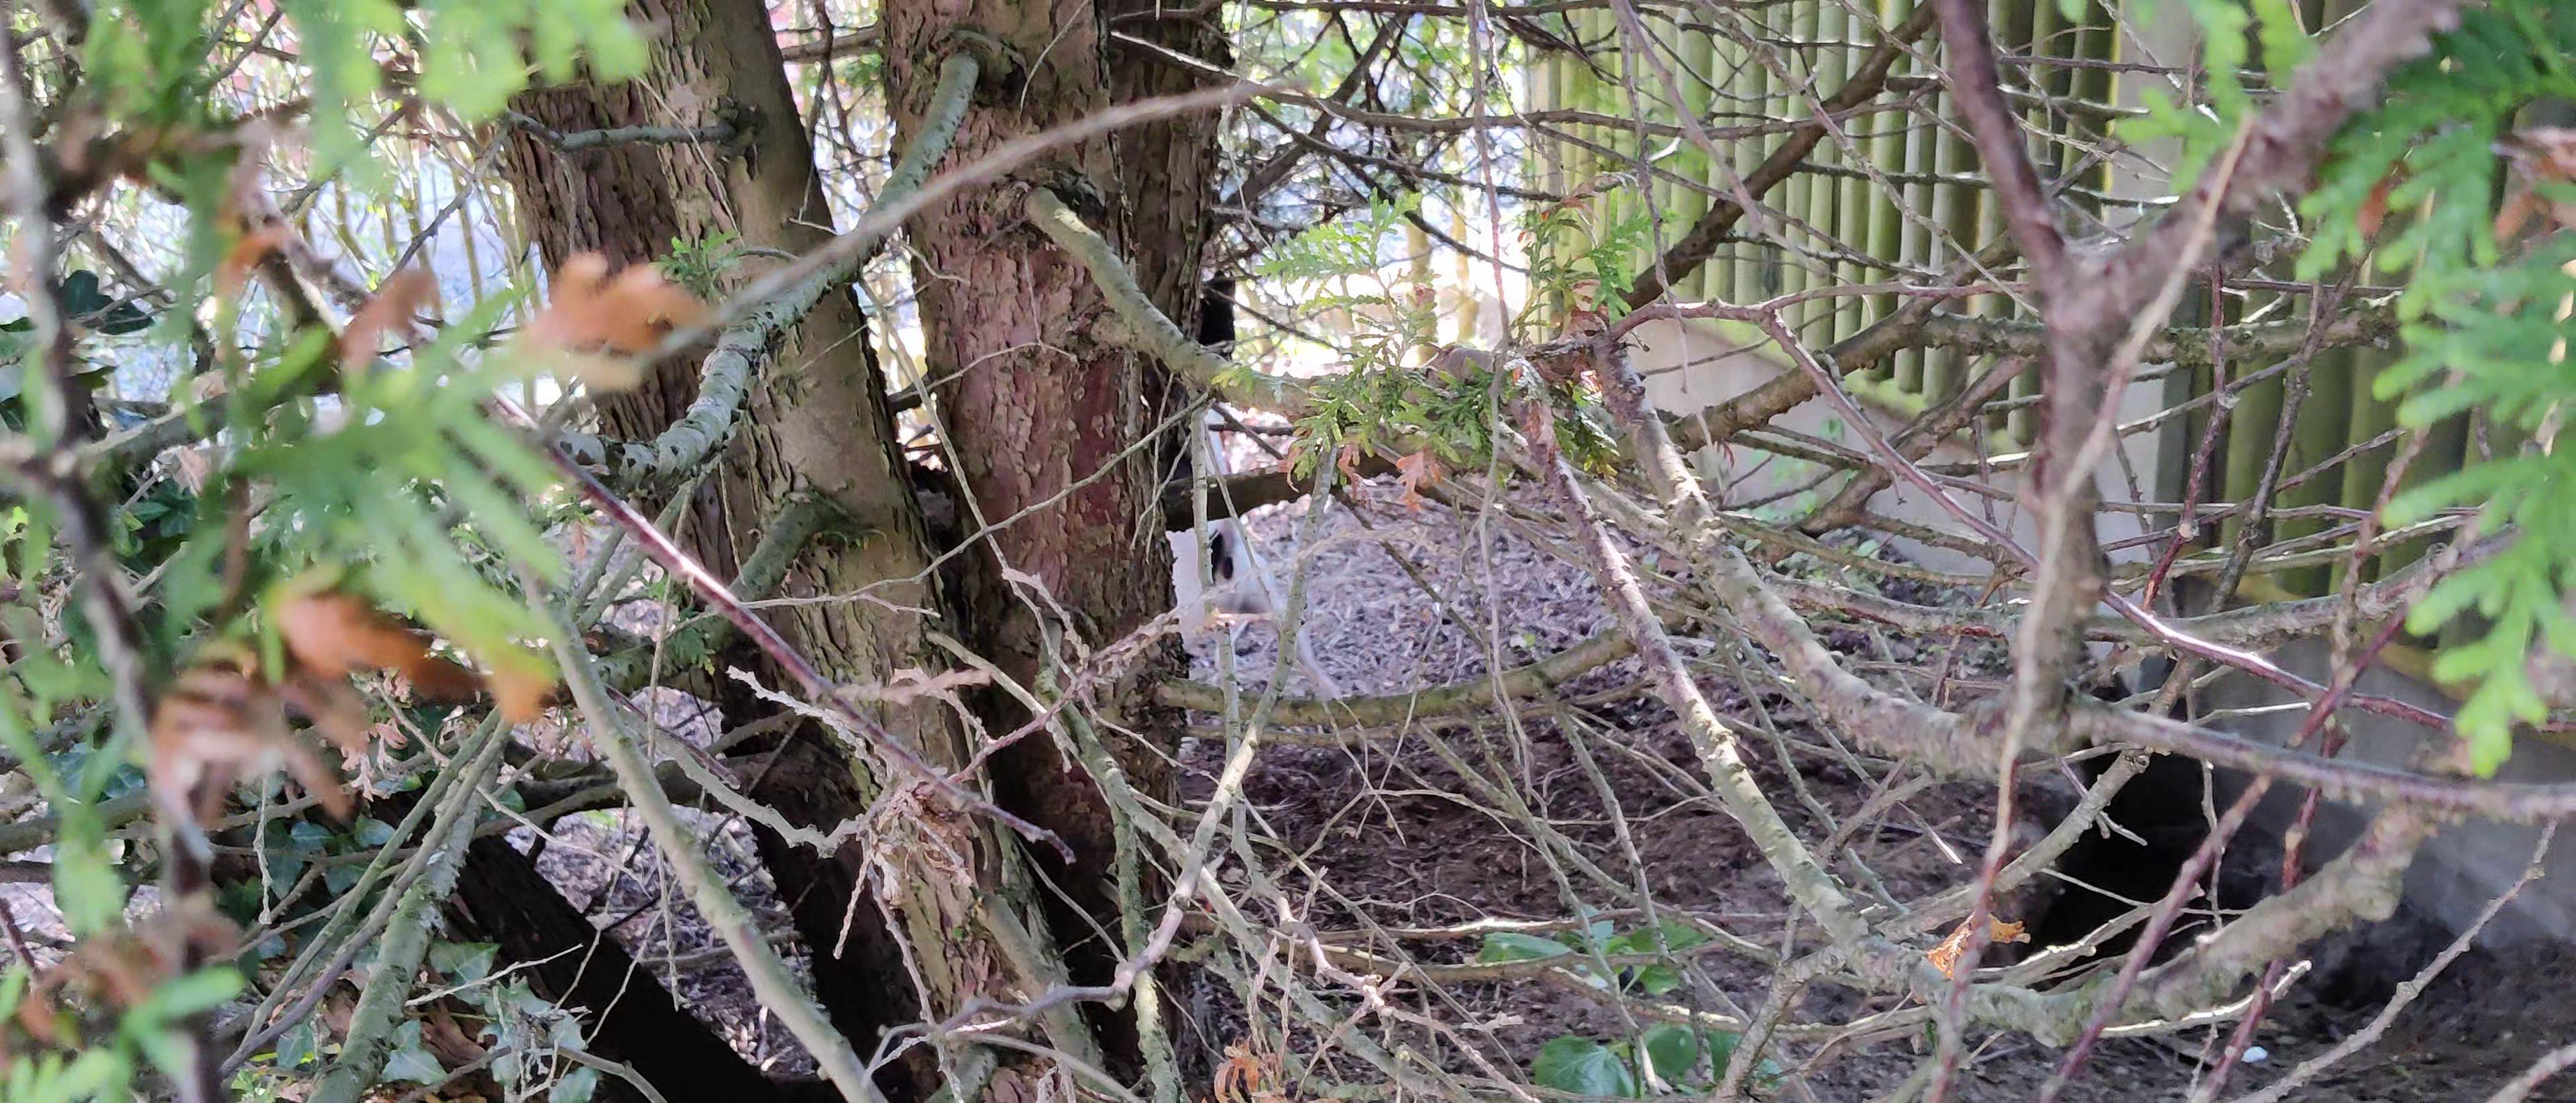Dog: (1119, 398, 1372, 759)
